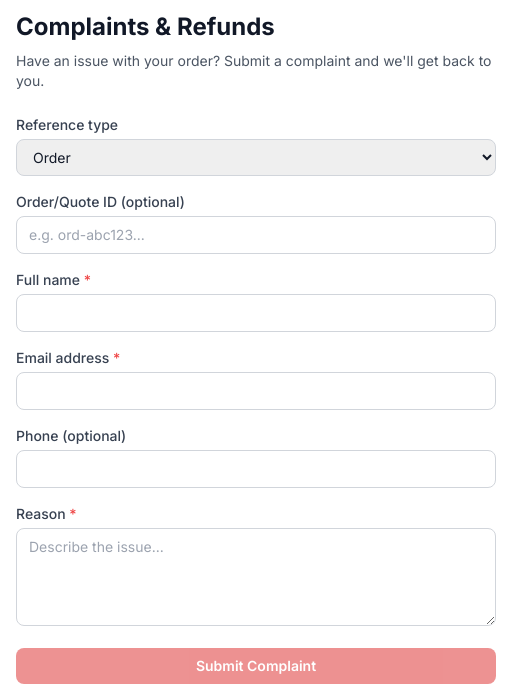
Test: ComplaintForm › shows error on API failure
Type "Ana" into the field labelled "Full name *" at point(256, 313), box 16,294 -> 496,332
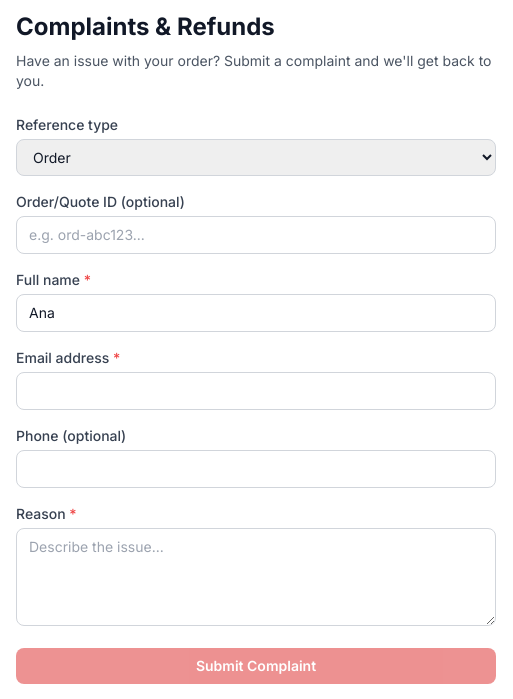
Type "a@b.com" into the field labelled "Email address *" at point(256, 391), box 16,372 -> 496,410
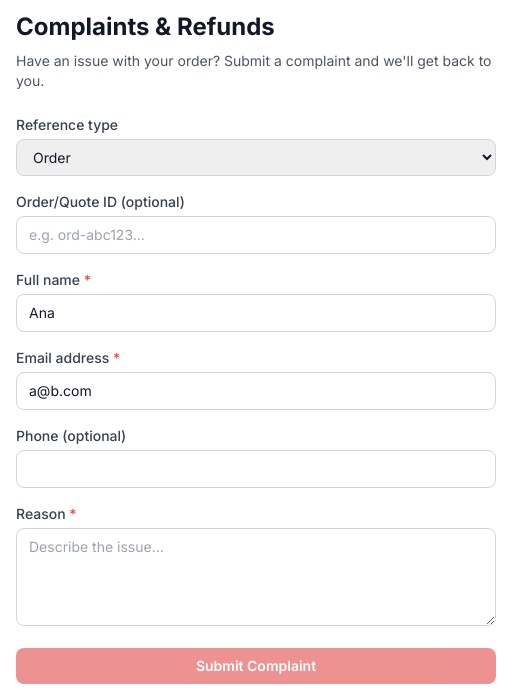
Type "Issue" into the text box labelled "Reason *" at point(256, 577), box 16,528 -> 496,626
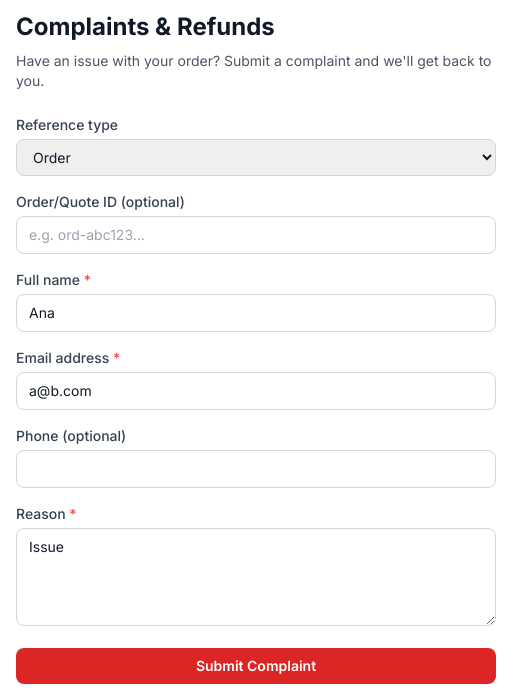
Click the button "Submit Complaint" at point(256, 666), box 16,648 -> 496,684
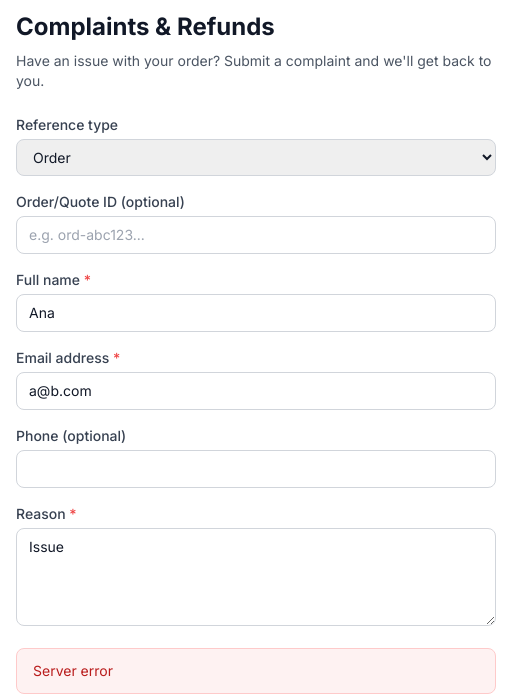
Result: the message reads "Server error" at 33,662 -> 113,679
